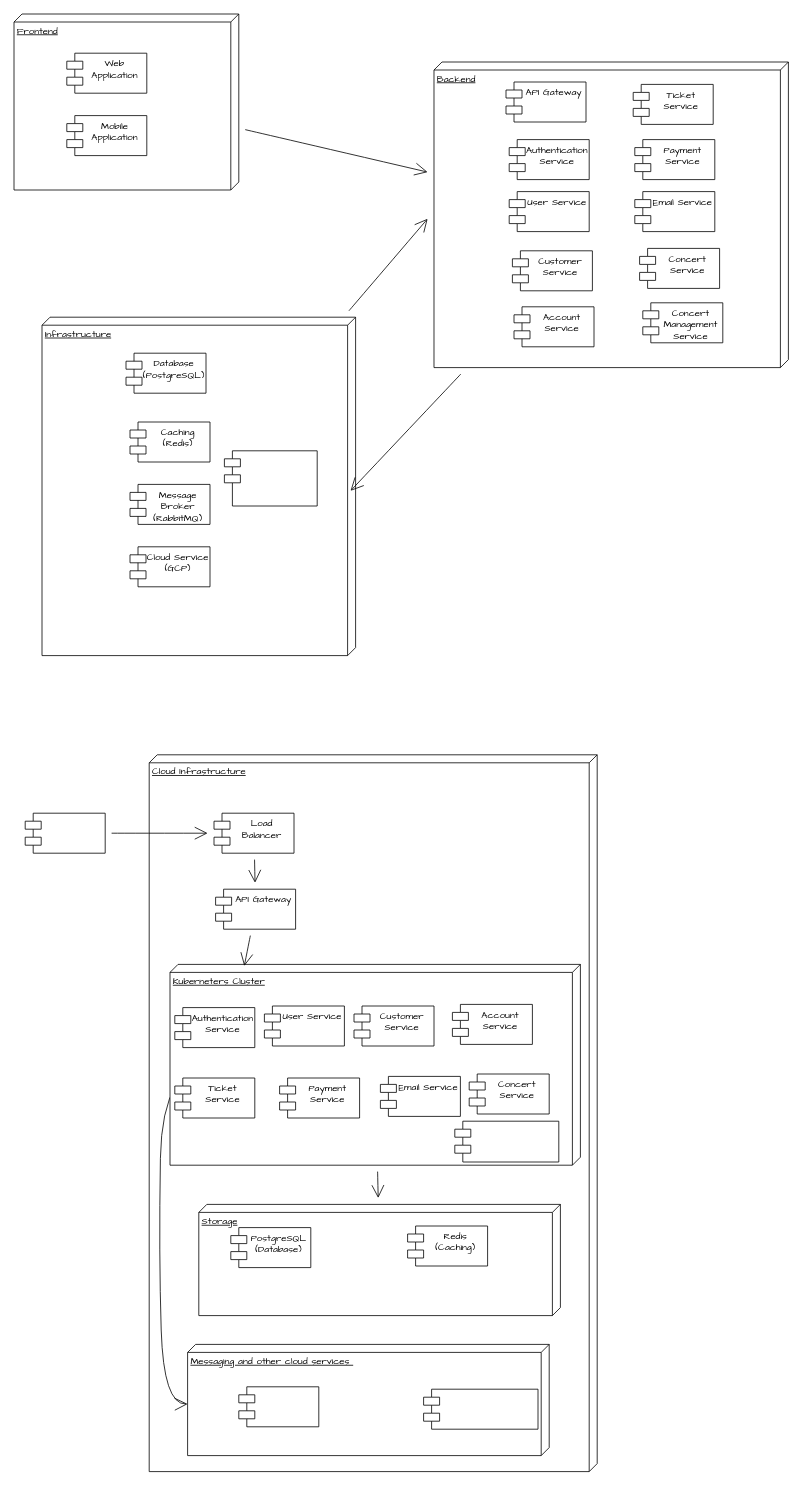
Image size: 802x1486. Some labels were removed from this diagram. Each missing label, with the centre of its shape:
"Containerzation & Orchestration (Docker & Kubernetes)" belongs at point (270, 478).
"Mobile App" belongs at point (64, 832).
"Other Cloud Services (Networking, storage)" belongs at point (480, 1408).
"RabbitMQ (Message Broker)" belongs at point (278, 1406).
"TicketManagement Service" belongs at point (506, 1141).
